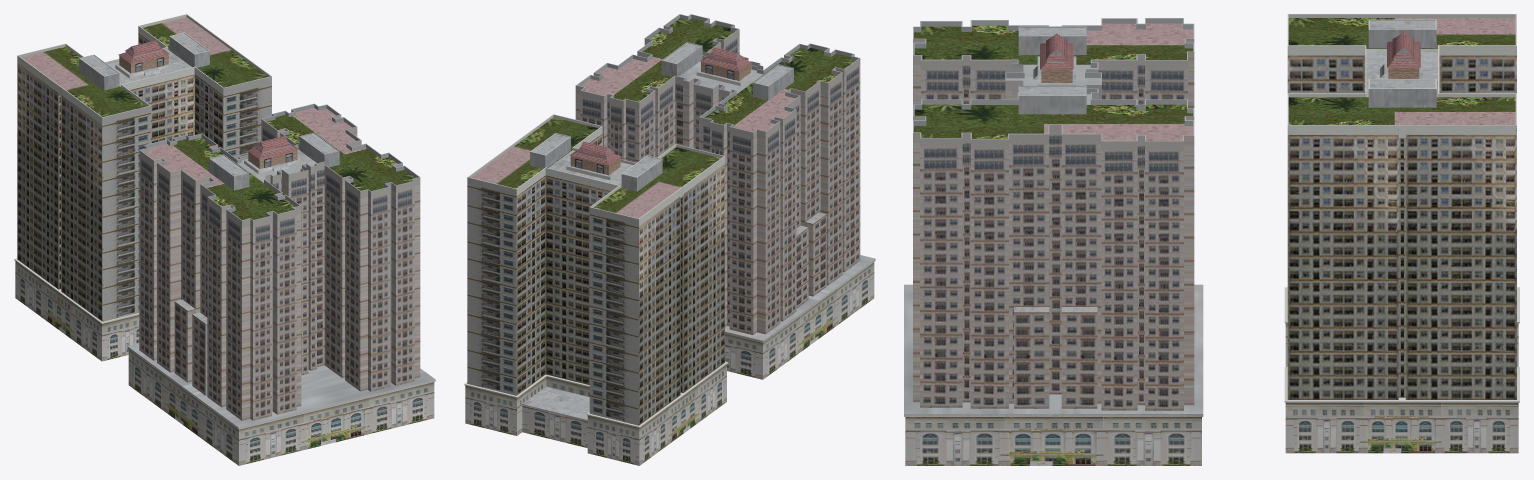
The picture shows the model from 3 angles, left to right: view 1: azimuth 30°, elevation 25°; view 2: azimuth 150°, elevation 25°; view 3: azimuth 270°, elevation 25°; orthographic projection. The views are drawn at different scales.
Parts seen in each view (by area): view 1: 5edf3d5cdd2a5651acb81d34; view 2: 5edf3d5cdd2a5651acb81d34; view 3: 5edf3d5cdd2a5651acb81d34.
Part boxes in pixels (left/top/right/bottom): 5edf3d5cdd2a5651acb81d34: left=14, top=14, right=435, bottom=465; 5edf3d5cdd2a5651acb81d34: left=464, top=14, right=875, bottom=465; 5edf3d5cdd2a5651acb81d34: left=904, top=14, right=1519, bottom=465.
Size of the model in its own units: 81.55 by 105 by 164.
Materials: 1 (1 with a texture image).
